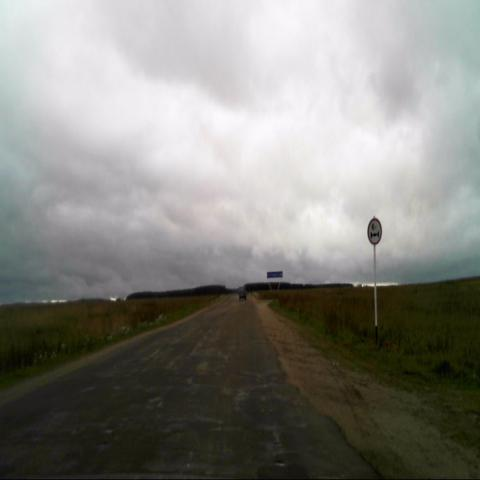3_12: (367, 218, 383, 246)
